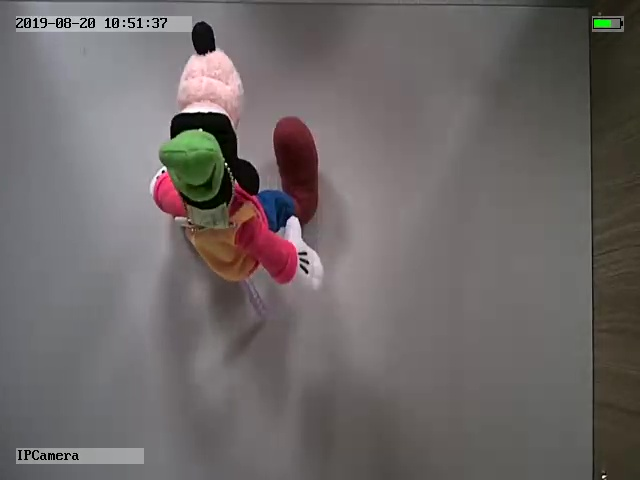goofy: (150, 20, 324, 296)
